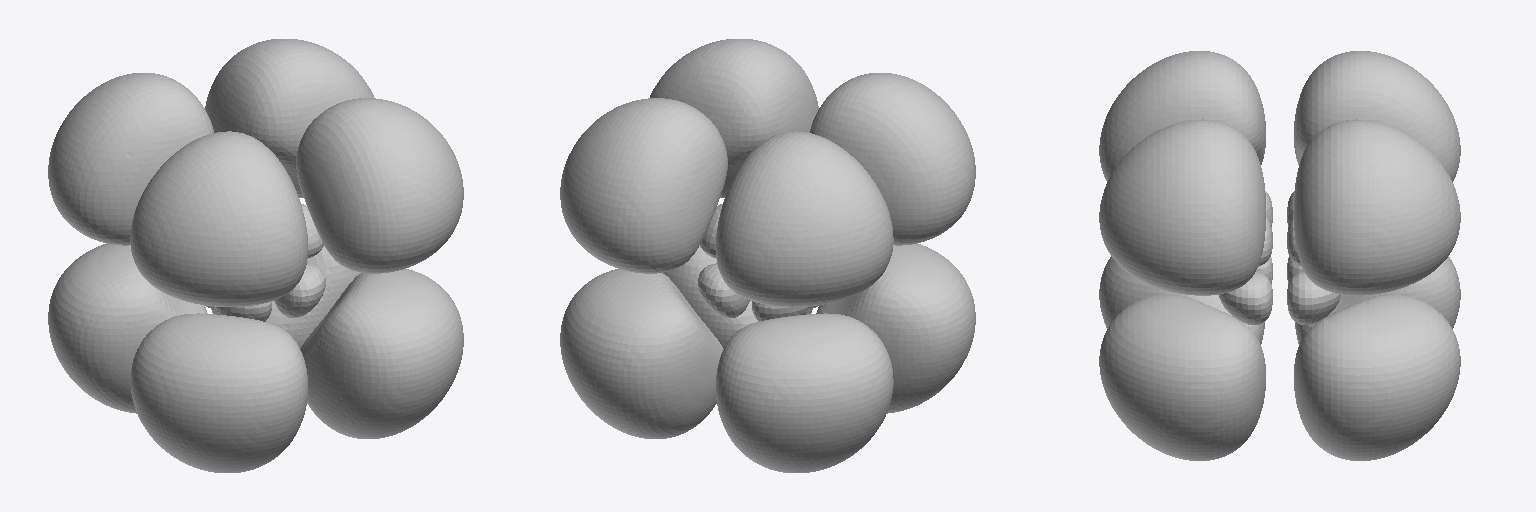
File: orb_n=5_ l=3 _m=-2.obj
The picture shows the model from 3 angles: view 1: azimuth 30°, elevation 25°; view 2: azimuth 150°, elevation 25°; view 3: azimuth 270°, elevation 25°; orthographic projection.
Parts seen in each view (by area): view 1: orb_n=5__l=3__m=-2; view 2: orb_n=5__l=3__m=-2; view 3: orb_n=5__l=3__m=-2.
Boxes of the visible parts, <box> form: orb_n=5__l=3__m=-2: <box>48,39,463,472</box>; orb_n=5__l=3__m=-2: <box>560,39,975,472</box>; orb_n=5__l=3__m=-2: <box>1099,51,1460,460</box>.
Bounding box in the file's own units: 83.73 × 83.73 × 83.73.